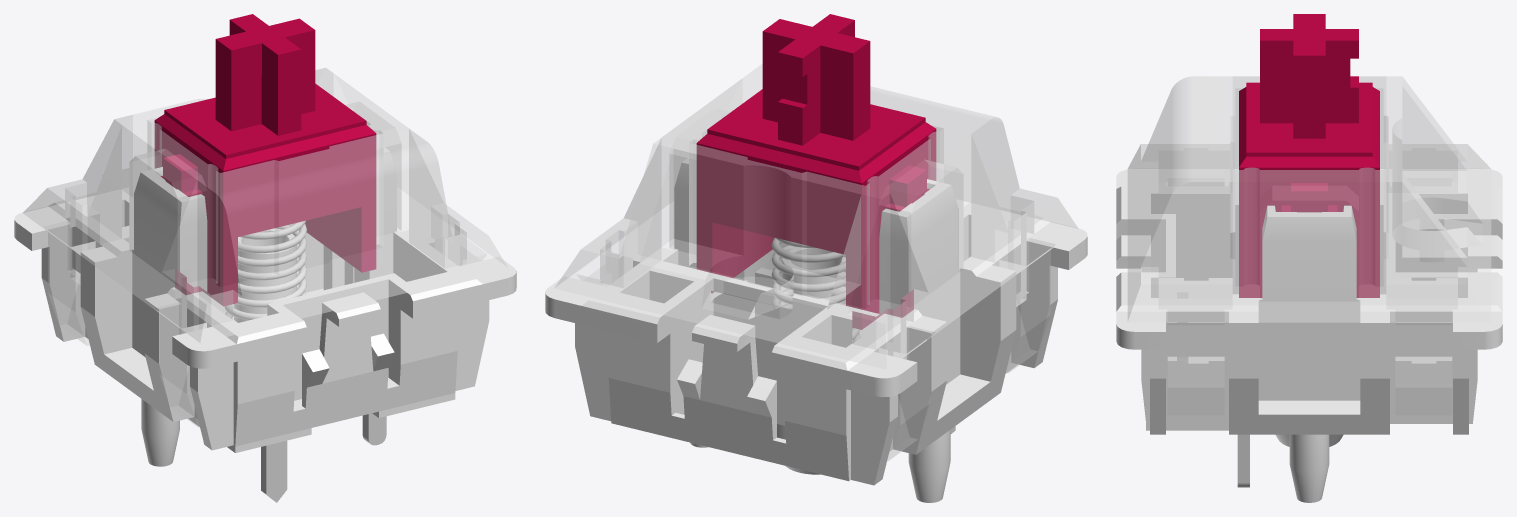
Rendered from switch-model.gltf.
3 renders of one model, left to right at view 1: azimuth 30°, elevation 25°; view 2: azimuth 150°, elevation 25°; view 3: azimuth 270°, elevation 25°, orthographic. The views are drawn at different scales.
Parts seen in each view (by area): view 1: Bottom, Top, Stem, Spring, Pins; view 2: Bottom, Top, Stem, Spring, Pins; view 3: Top, Bottom, Stem, Pins.
Boxes of the visible parts, x1,y1,x2,y2 form: Bottom: [14, 147, 516, 466]; Top: [23, 68, 507, 427]; Stem: [154, 14, 376, 305]; Spring: [225, 220, 306, 320]; Pins: [261, 413, 386, 502]; Bottom: [545, 157, 1087, 502]; Top: [554, 64, 1078, 460]; Stem: [696, 14, 936, 329]; Spring: [771, 238, 860, 343]; Pins: [755, 268, 955, 433]; Top: [1128, 76, 1490, 418]; Bottom: [1116, 168, 1502, 502]; Stem: [1239, 14, 1379, 297]; Pins: [1177, 292, 1249, 487].
Size of the model in its own units: 1.56 by 1.86 by 1.56.
